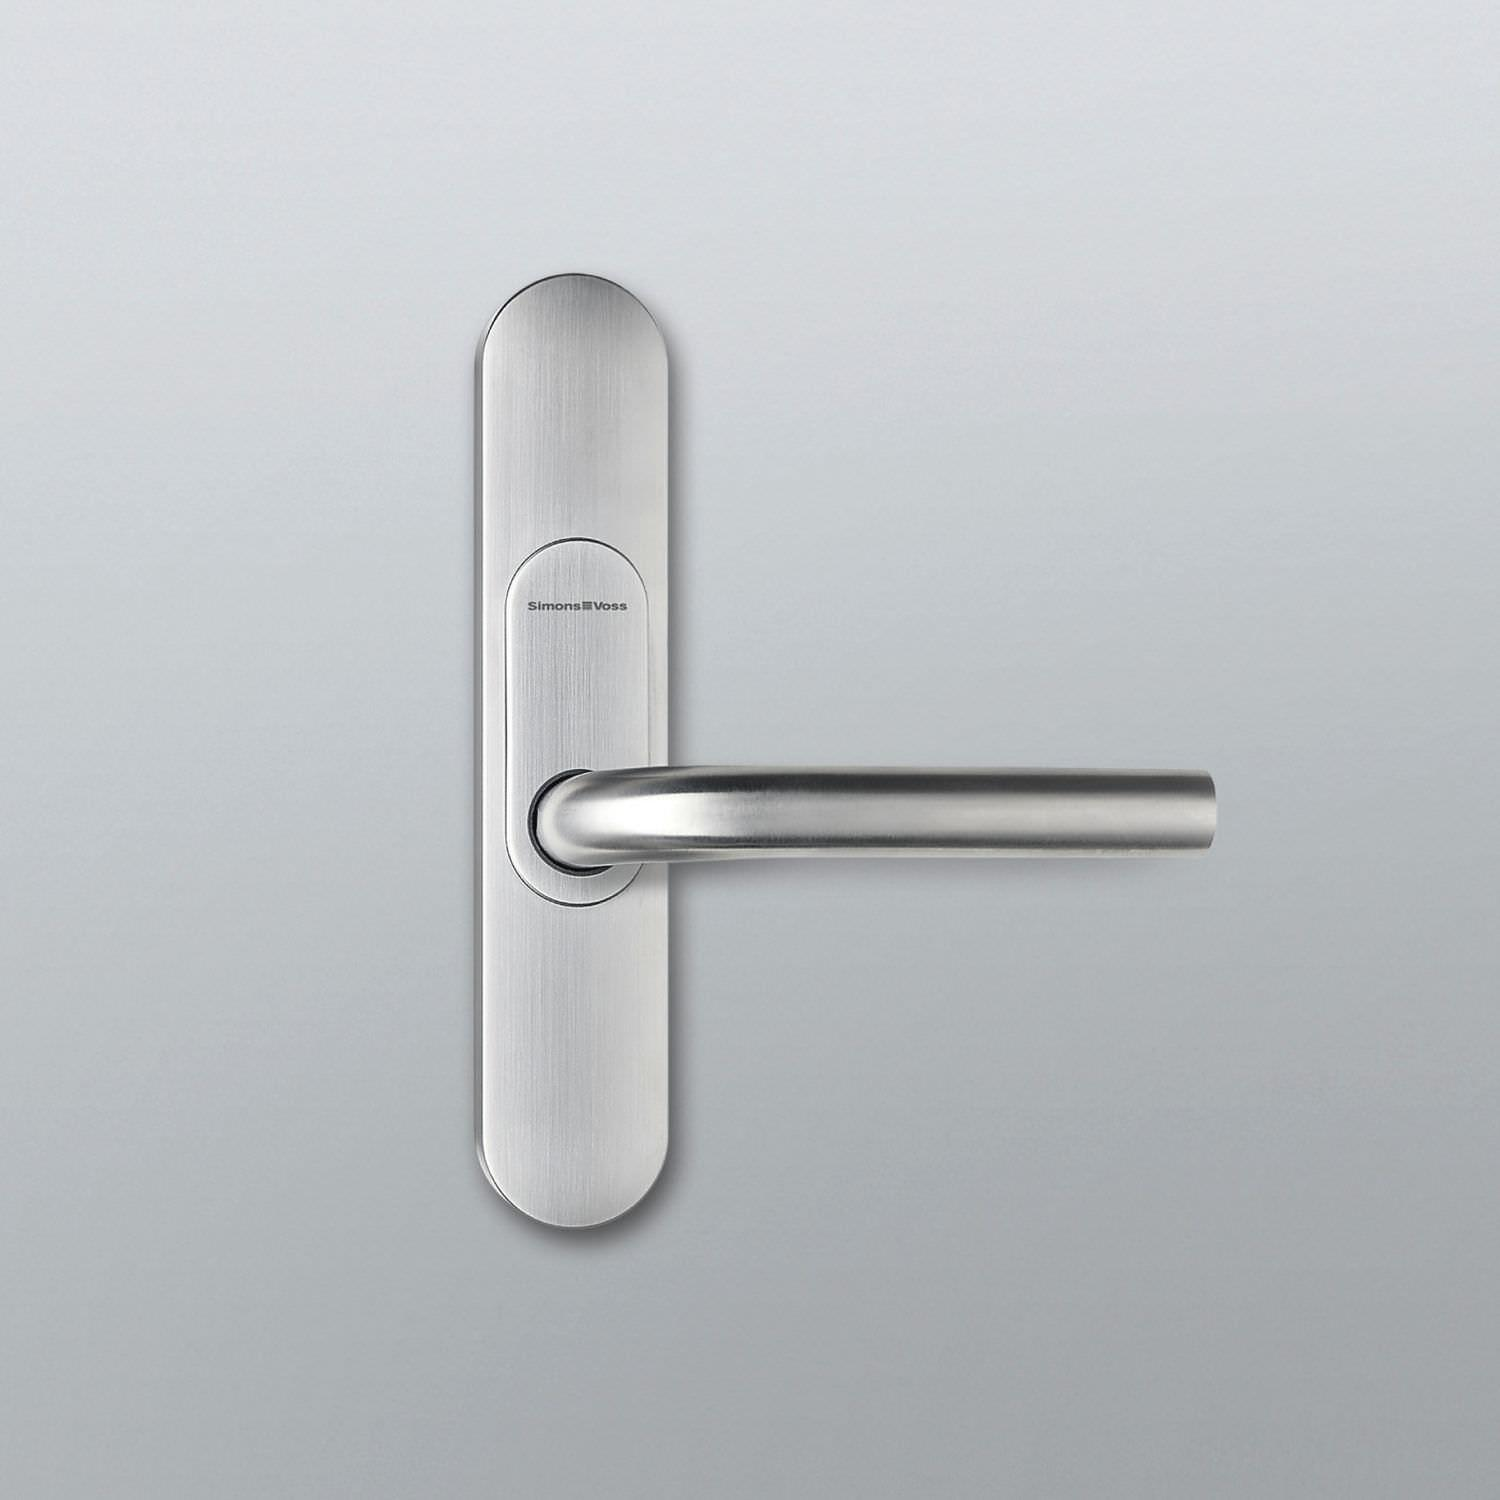doorhandle: (471, 644, 1287, 962)
